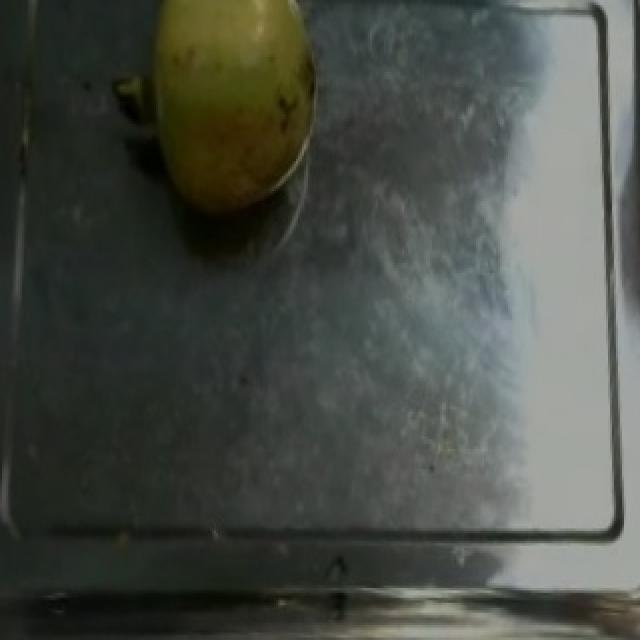fruit: (98, 0, 348, 238)
